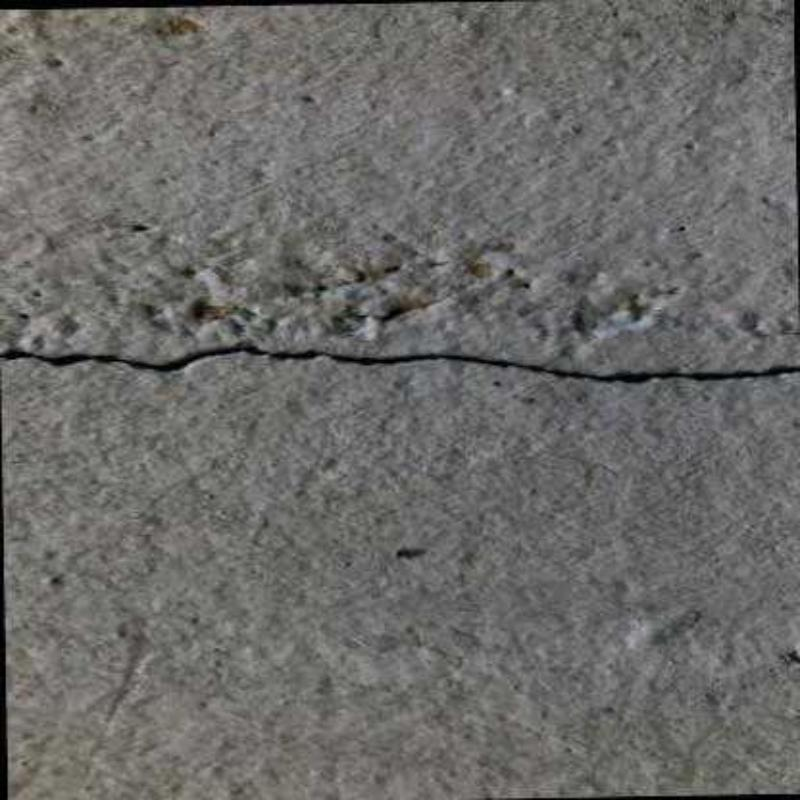pothole: (0, 336, 800, 381)
